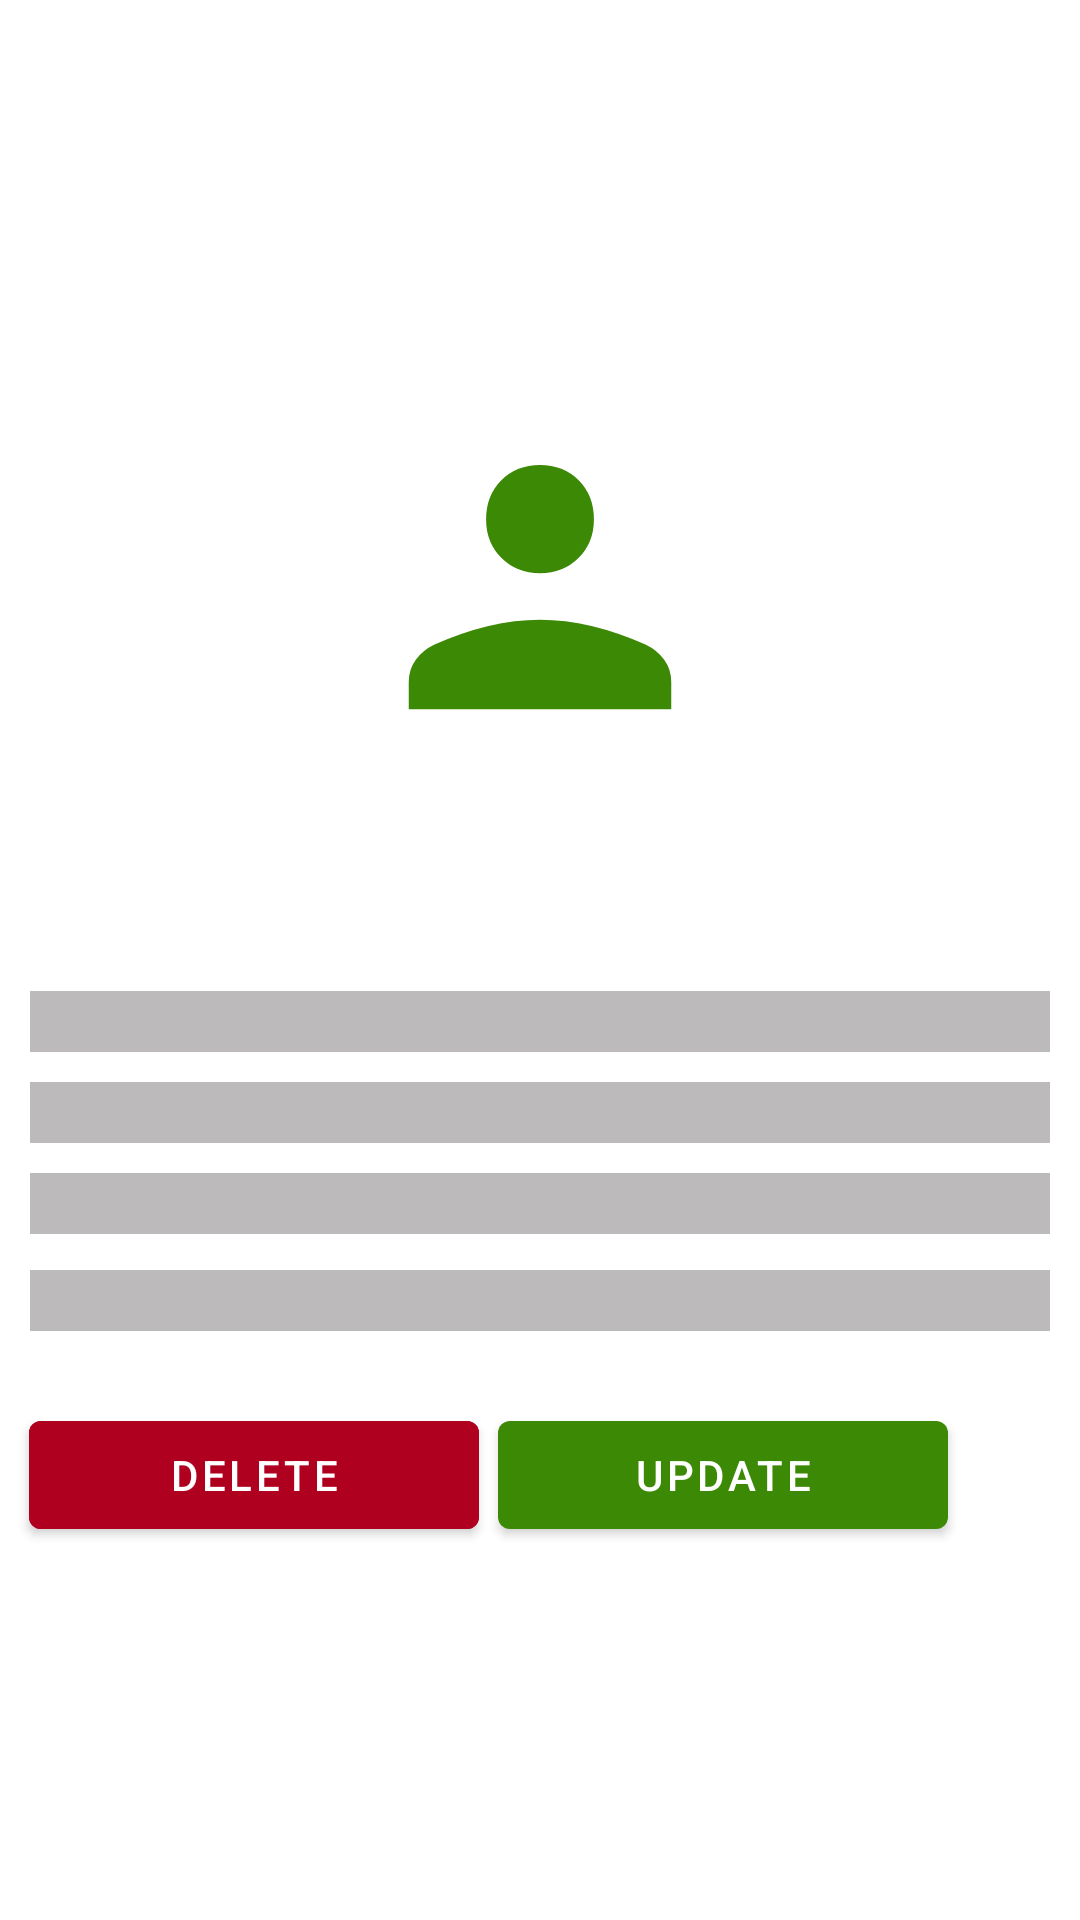

Icon click points for this 1080px×1920px phone screenshot, format (x,y):
person: (540,587)
